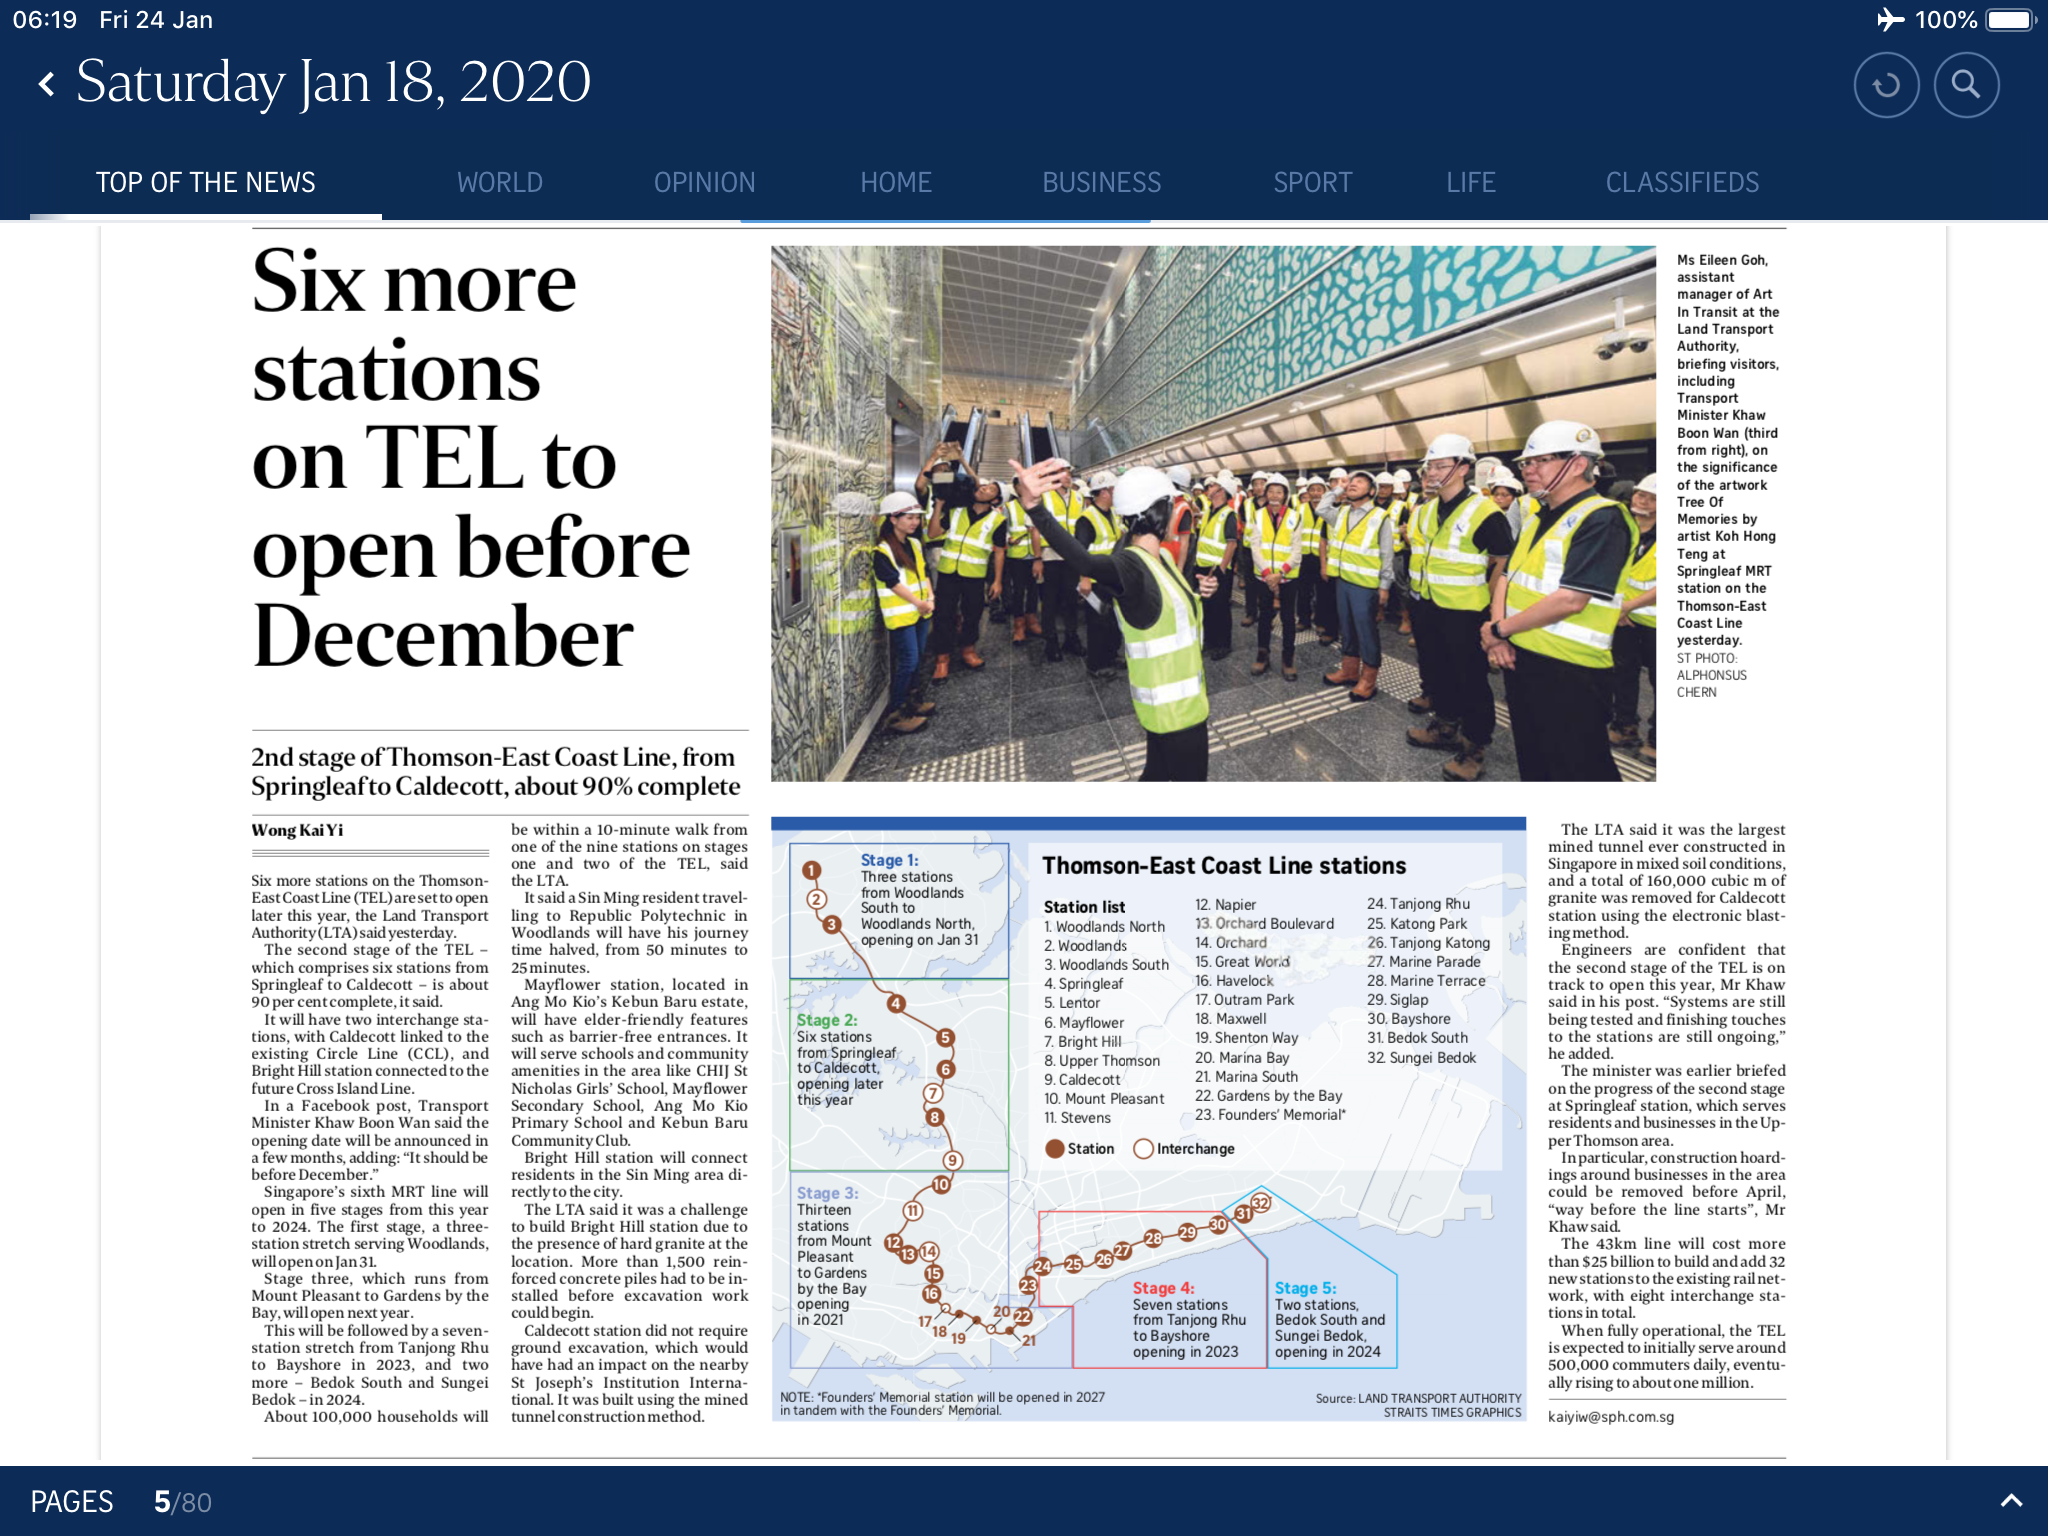Headline: (234, 231, 713, 695), (244, 737, 755, 808)
